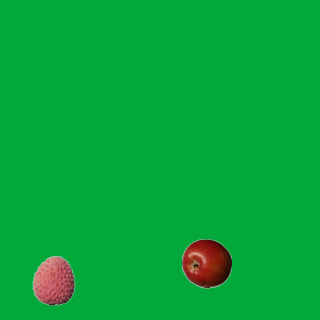Apple Braeburn: (181, 238, 231, 288)
Lychee: (28, 255, 78, 305)
